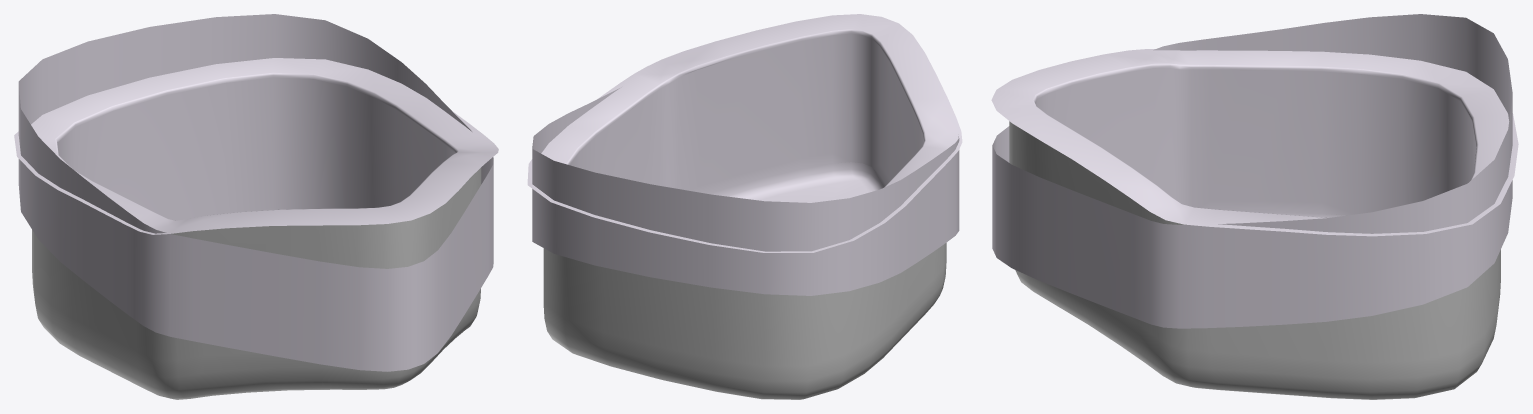
The model's file is dpad_down.obj.
3 views of the same model, side by side, from view 1: azimuth 30°, elevation 25°; view 2: azimuth 150°, elevation 25°; view 3: azimuth 270°, elevation 25° (orthographic). The views are drawn at different scales.
Visible parts, largest first — view 1: dpad_down; view 2: dpad_down; view 3: dpad_down.
Boxes of the visible parts, x1,y1,x2,y2 form: dpad_down: (14,14,498,399); dpad_down: (527,14,962,399); dpad_down: (991,14,1518,399).
Bounding box in the file's own units: 0.1272 × 0.0759 × 0.153.
